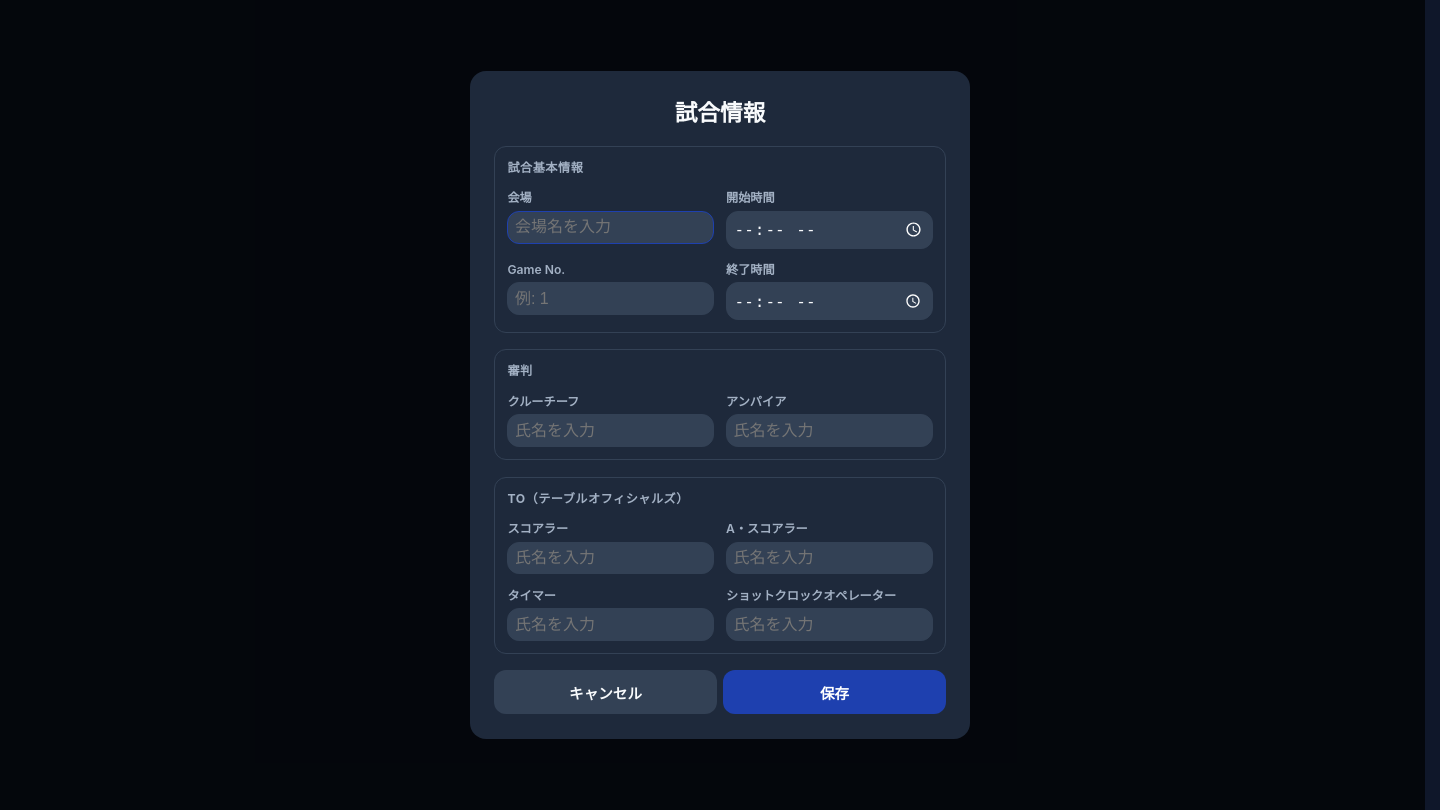
Test: GameInfoModal: 書きかけの破棄 › 終了時間だけを触った場合も書きかけとして扱う
Type "11:45" into the time field labelled "終了時間" at x=829, y=301, box [726,282,933,320]
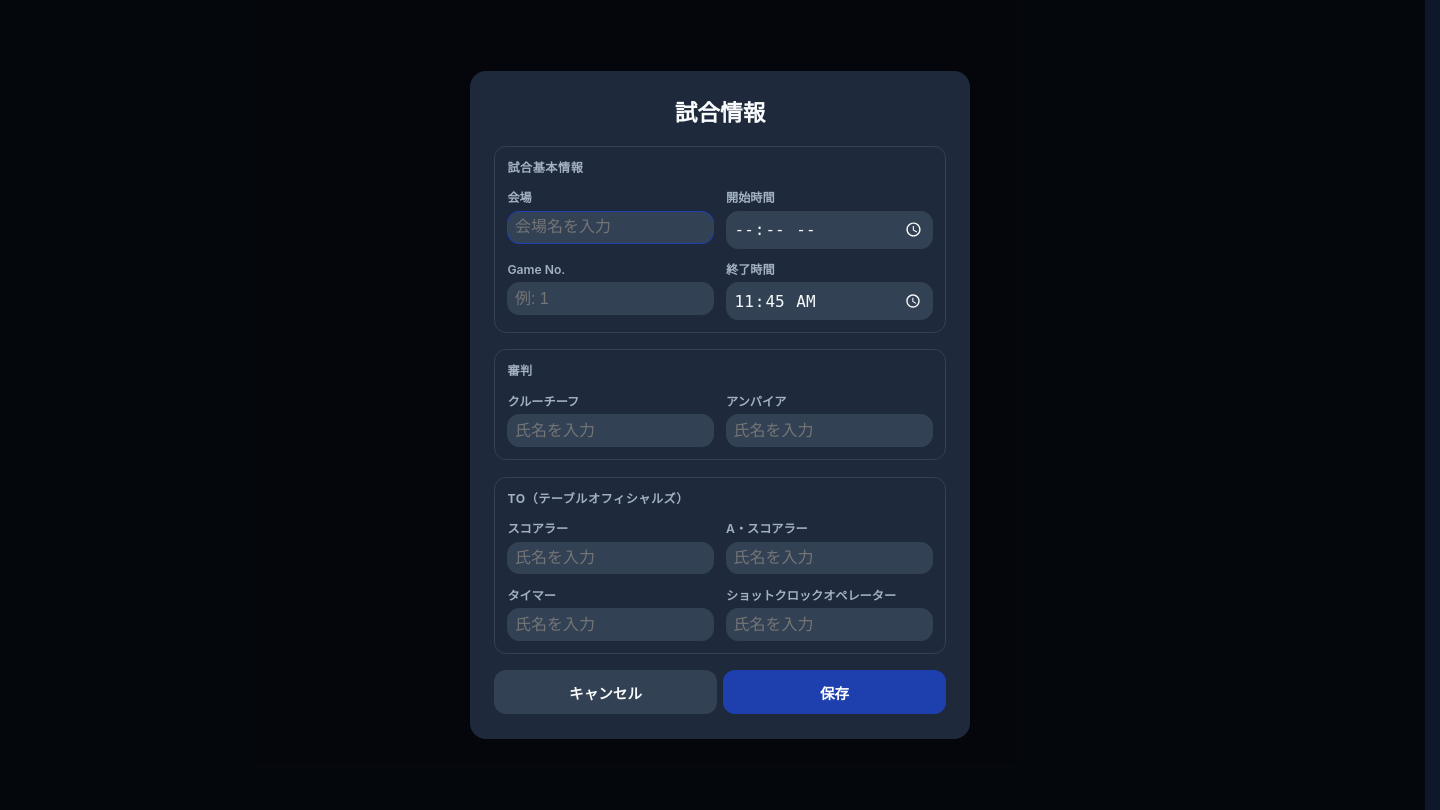
Click the element with class "game-info-modal-overlay" at x=86, y=405, box [0,0,1439,809]
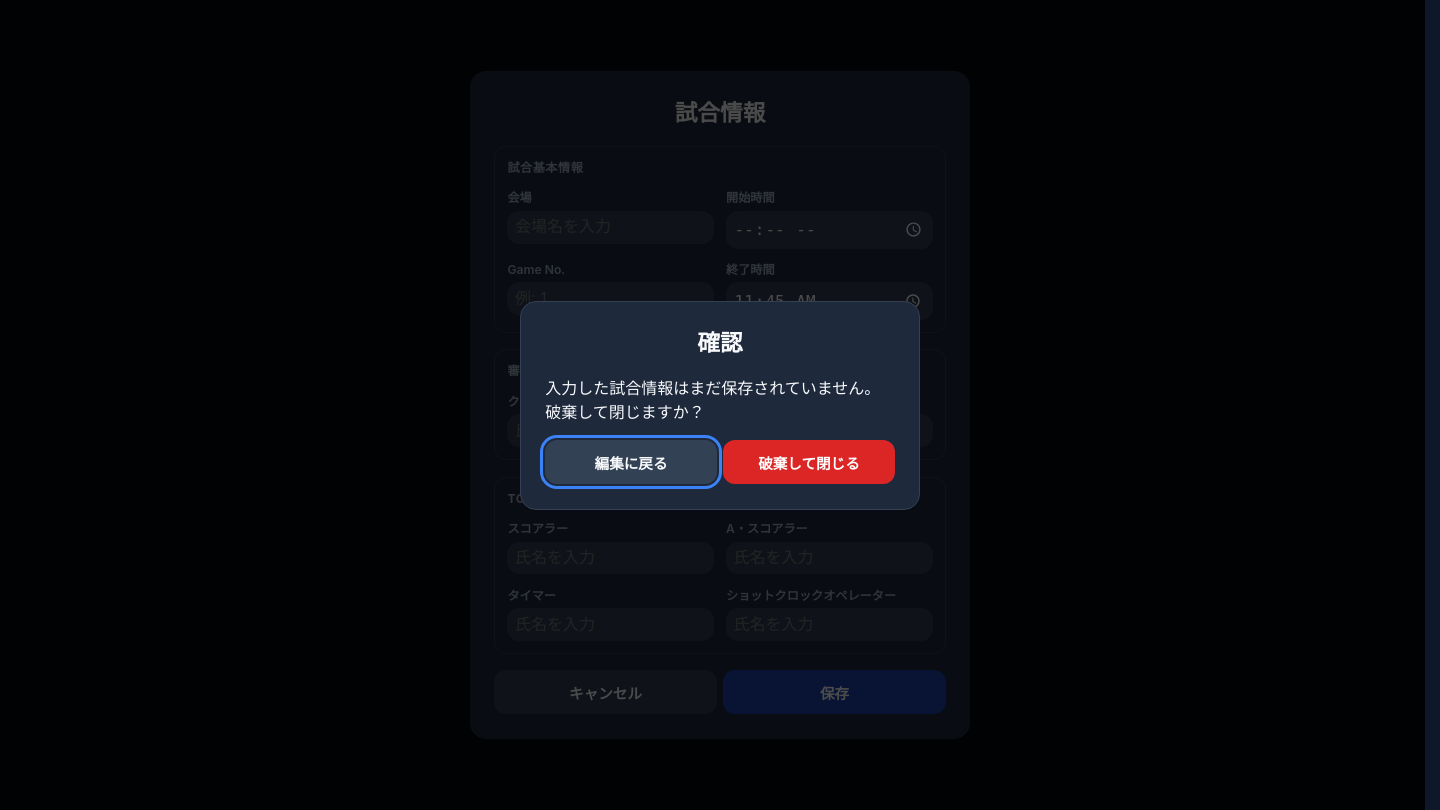
expect the button "破棄して閉じる" is shown: met, box [723,440,895,484]
